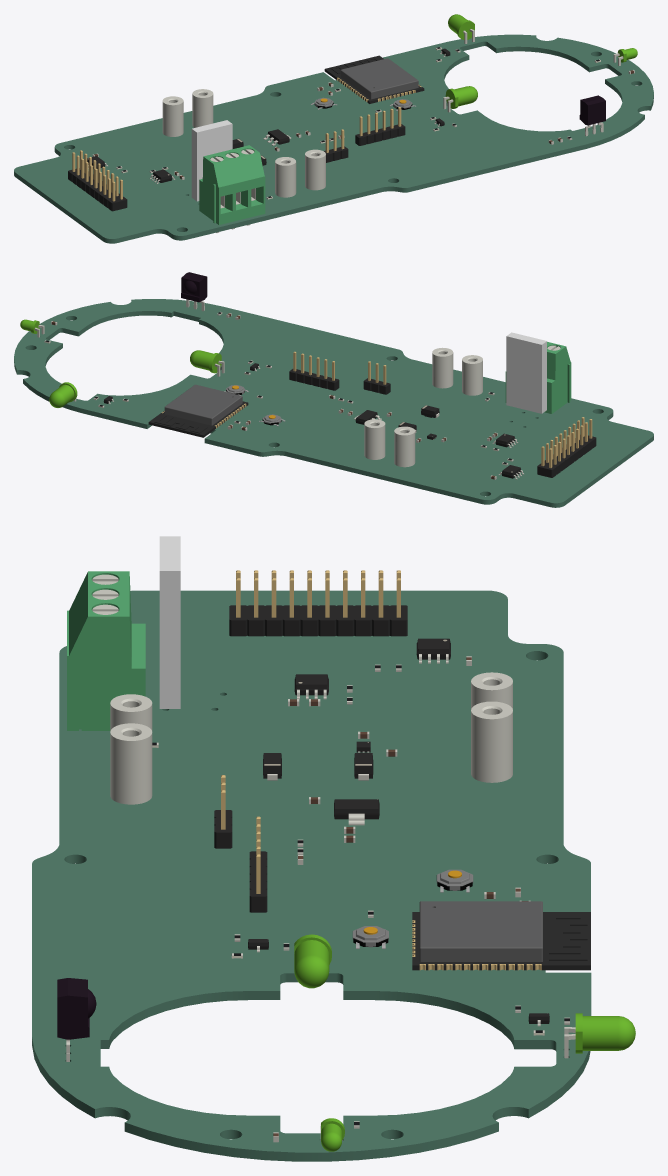
File: Rdrop-GPT6-B.glb
The picture shows the model from 3 angles, top to bottom: view 1: azimuth 30°, elevation 25°; view 2: azimuth 150°, elevation 25°; view 3: azimuth 270°, elevation 25°; orthographic projection. The views are drawn at different scales.
Visible parts, largest first — view 1: =>[0:1:1:38], =>[0:1:1:37], =>[0:1:1:23] (×4), =>[0:1:1:3], =>[0:1:1:13], =>[0:1:1:21], =>[0:1:1:15] (×2), =>[0:1:1:33], =>[0:1:1:27], =>[0:1:1:9]; view 2: =>[0:1:1:38], =>[0:1:1:23] (×4), =>[0:1:1:3], =>[0:1:1:21], =>[0:1:1:13], =>[0:1:1:37], =>[0:1:1:15] (×2), =>[0:1:1:33], =>[0:1:1:27], =>[0:1:1:9]; view 3: =>[0:1:1:38], =>[0:1:1:3], =>[0:1:1:37], =>[0:1:1:23] (×4), =>[0:1:1:13], =>[0:1:1:15] (×2), =>[0:1:1:21], =>[0:1:1:27], =>[0:1:1:33], =>[0:1:1:31], =>[0:1:1:9].
Boxes of the visible parts, x1,y1,x2,y2 form: =>[0:1:1:38]: (14,34,653,243); =>[0:1:1:37]: (199,145,265,232); =>[0:1:1:23] (×4): (162,89,325,197); =>[0:1:1:3]: (324,55,424,103); =>[0:1:1:13]: (68,150,127,211); =>[0:1:1:21]: (191,120,232,201); =>[0:1:1:15] (×2): (443,14,477,112); =>[0:1:1:33]: (355,107,405,145); =>[0:1:1:27]: (579,95,605,136); =>[0:1:1:9]: (324,129,348,162); =>[0:1:1:38]: (14,299,653,507); =>[0:1:1:23] (×4): (364,347,482,467); =>[0:1:1:3]: (148,384,248,437); =>[0:1:1:21]: (506,332,546,413); =>[0:1:1:13]: (537,417,596,477); =>[0:1:1:37]: (505,341,571,413); =>[0:1:1:15] (×2): (49,350,224,407); =>[0:1:1:33]: (289,351,339,390); =>[0:1:1:27]: (181,272,207,311); =>[0:1:1:9]: (363,361,390,394); =>[0:1:1:38]: (32,590,591,1161); =>[0:1:1:3]: (412,901,590,970); =>[0:1:1:37]: (67,571,145,730); =>[0:1:1:23] (×4): (110,672,512,804); =>[0:1:1:13]: (229,570,407,636); =>[0:1:1:15] (×2): (294,934,635,1058); =>[0:1:1:21]: (159,536,180,708); =>[0:1:1:27]: (57,978,96,1061); =>[0:1:1:33]: (249,816,267,912); =>[0:1:1:31]: (334,799,379,825); =>[0:1:1:9]: (214,775,232,848).
Bounding box in the file's own units: 0.1918 × 0.0287 × 0.086.
